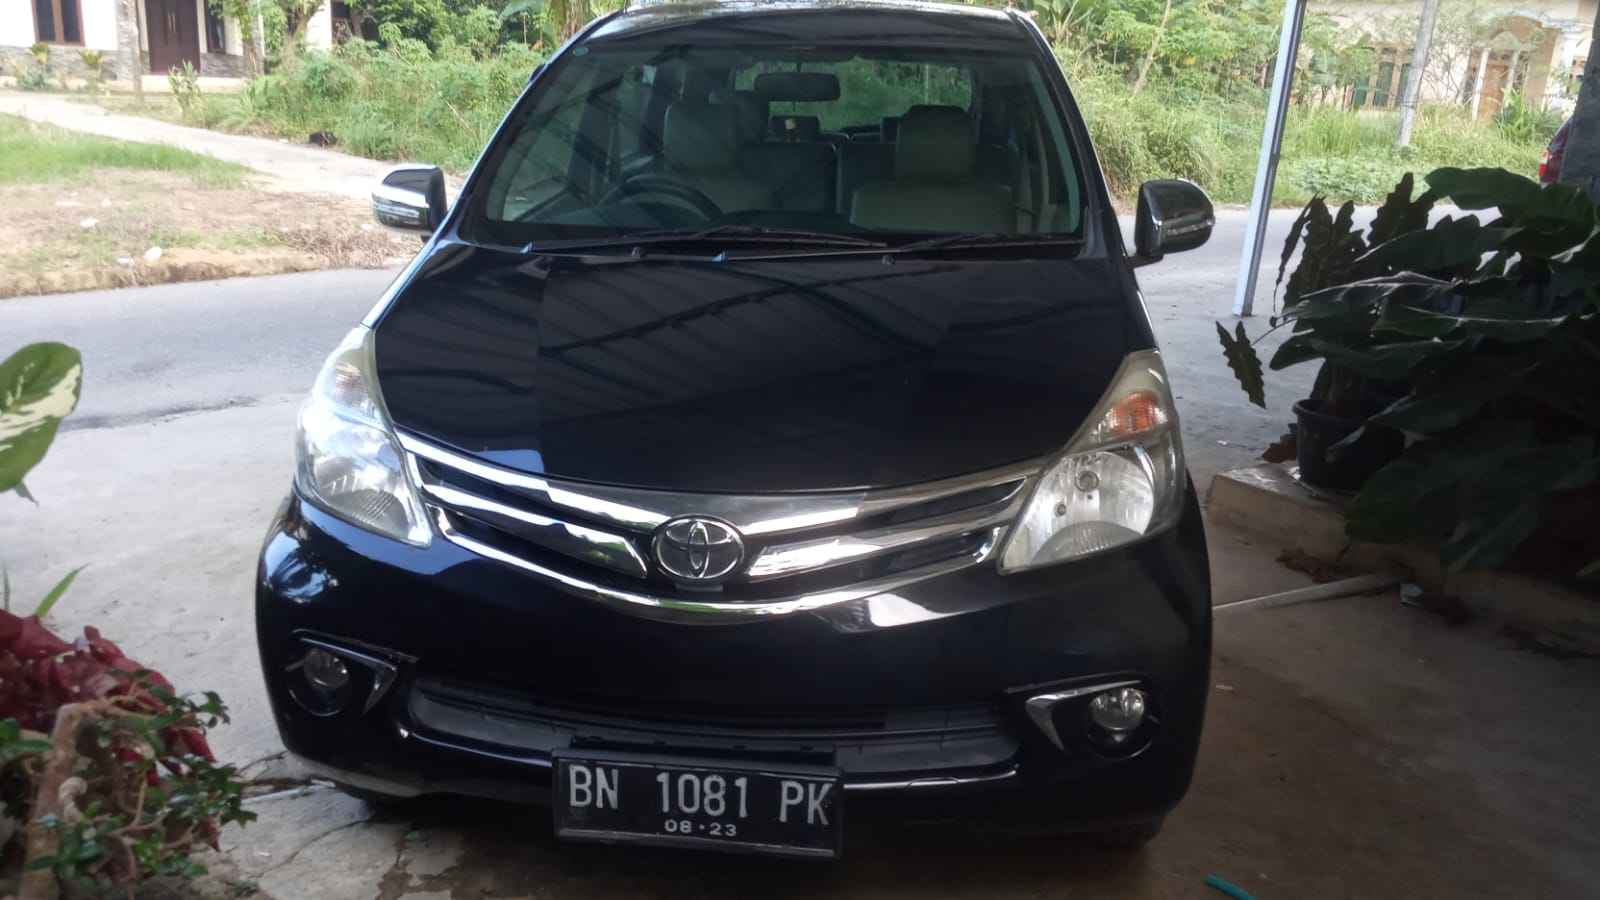plate: (556, 745, 840, 863)
